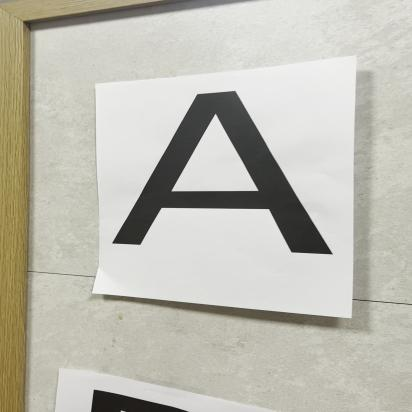seat: (100, 79, 364, 270)
